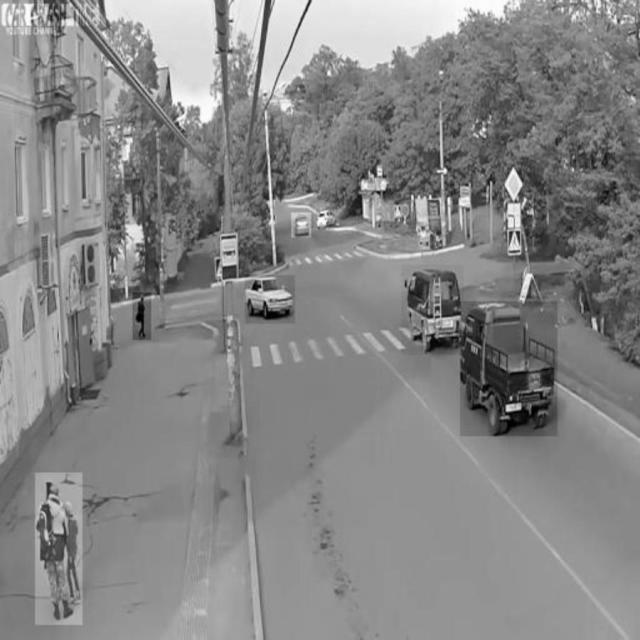person: (36, 473, 83, 625), (133, 293, 151, 340)
vehicle: (460, 302, 558, 436), (402, 265, 464, 356), (245, 275, 295, 323), (314, 204, 340, 230), (292, 212, 312, 237)
